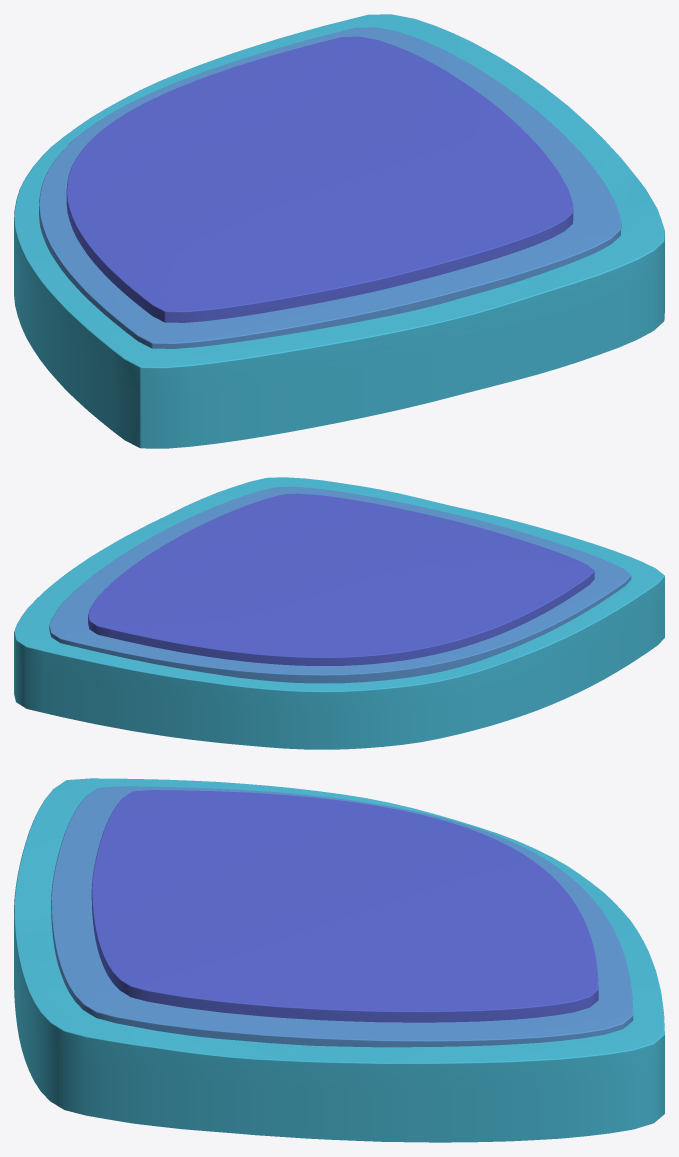
File: base_medicinexp_pharmacy_builder.glb
3 renders of one model, top to bottom at view 1: azimuth 30°, elevation 25°; view 2: azimuth 150°, elevation 25°; view 3: azimuth 270°, elevation 25°, orthographic. The views are drawn at different scales.
Parts seen in each view (by area): view 1: BackupPlane.001, BackupPlane, BackupPlane.002; view 2: BackupPlane.001, BackupPlane, BackupPlane.002; view 3: BackupPlane.001, BackupPlane, BackupPlane.002.
Part boxes in pixels (left/top/right/bottom): BackupPlane.001: left=66, top=36, right=573, bottom=322; BackupPlane: left=14, top=14, right=664, bottom=448; BackupPlane.002: left=39, top=27, right=621, bottom=348; BackupPlane.001: left=88, top=493, right=594, bottom=665; BackupPlane: left=14, top=477, right=664, bottom=749; BackupPlane.002: left=49, top=486, right=631, bottom=683; BackupPlane.001: left=91, top=790, right=598, bottom=1022; BackupPlane: left=14, top=778, right=664, bottom=1142; BackupPlane.002: left=51, top=786, right=633, bottom=1047.
Size of the model in its own units: 3.9 by 0.6183 by 3.76.
